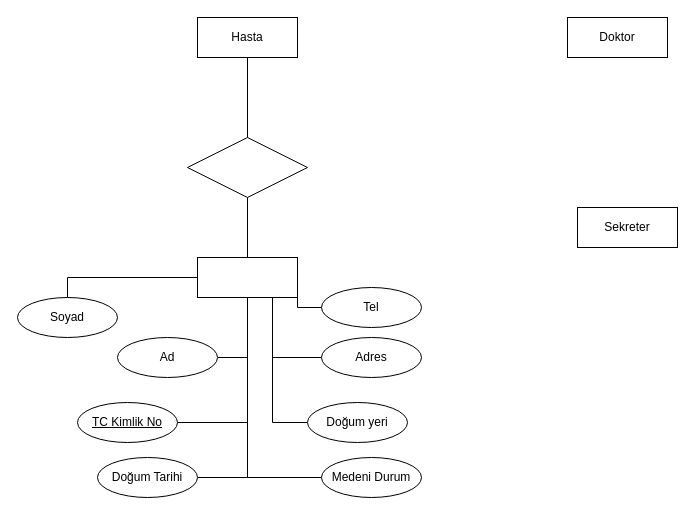
The diagram is 695 pixels wide and 515 high, and some of its shapes have lost their labels. Here are the shapes that lost their labels. From the top down, the centre of each, then its label:
[247,167]: Sahiptir
[247,277]: Hasta bilgileri
